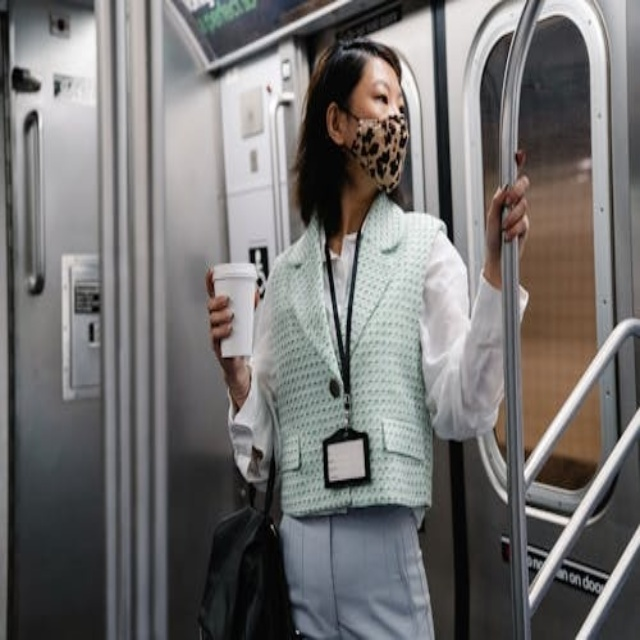Mascara: (341, 107, 407, 193)
Sin_gafas: (365, 73, 410, 117)
Sin_guantes: (484, 142, 534, 267), (204, 263, 233, 356)
